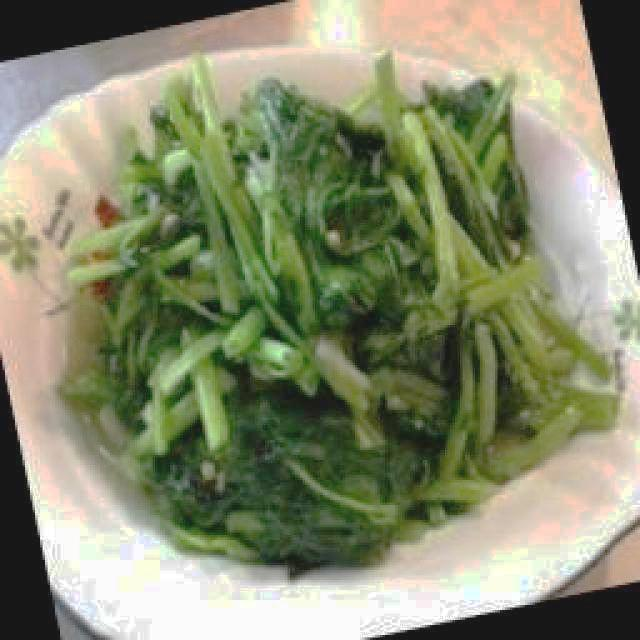water_spinach: (84, 57, 582, 463), (155, 381, 410, 573), (419, 383, 612, 508)
